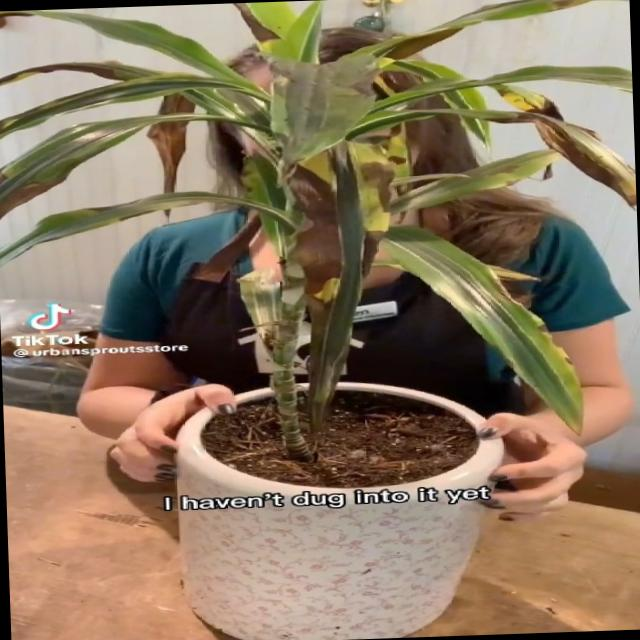lisc_suchy: (385, 108, 636, 211), (0, 190, 254, 266), (0, 113, 171, 219), (0, 10, 235, 78), (0, 77, 242, 139), (369, 0, 601, 59), (289, 170, 352, 308), (351, 142, 408, 242), (149, 94, 197, 198), (231, 1, 311, 58), (0, 64, 179, 87), (483, 82, 567, 121), (403, 78, 483, 108)
roslina_sucha: (0, 0, 635, 433)
